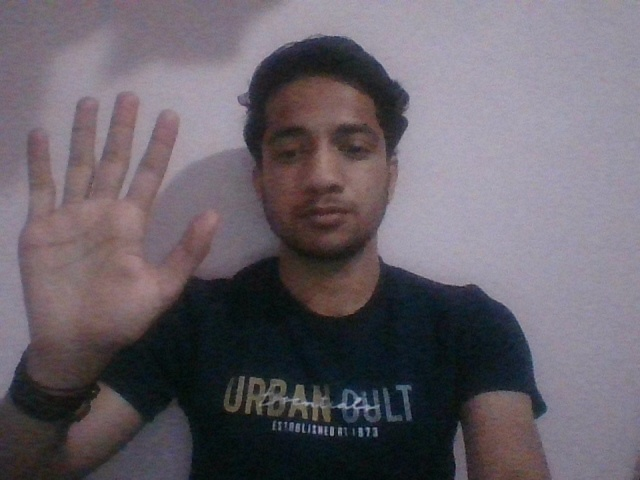Hello: (13, 93, 220, 353)
